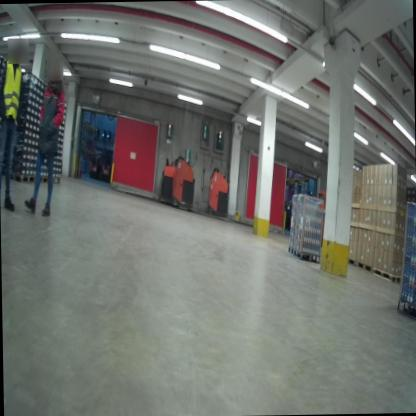pallet: (4, 164, 39, 184), (44, 174, 60, 187), (33, 170, 48, 183)
pallet_truck: (167, 150, 215, 219), (200, 160, 246, 224), (149, 142, 184, 211), (86, 132, 109, 181), (98, 137, 117, 183)
